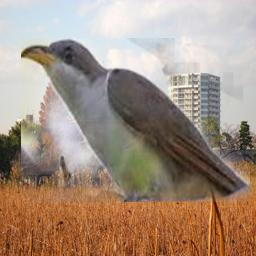Cuckoo: (21, 38, 250, 202)
